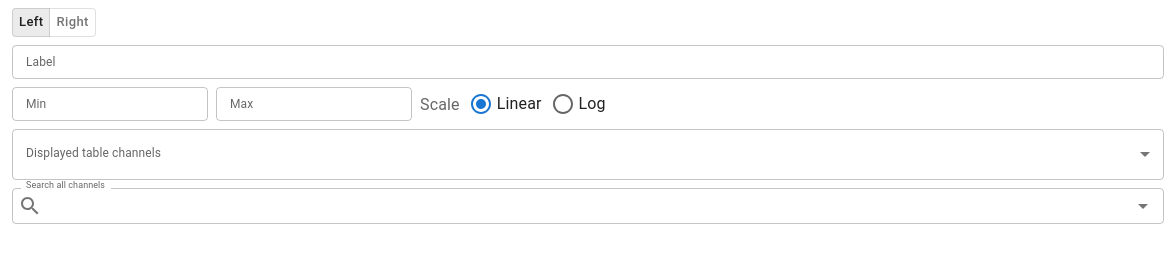
Test case: y-axis tab › min and max fields › displays helper text when min and max fields contain an invalid range
Type "2" into the field labelled "Min". click: (110, 104)
box: [12,87,208,121]
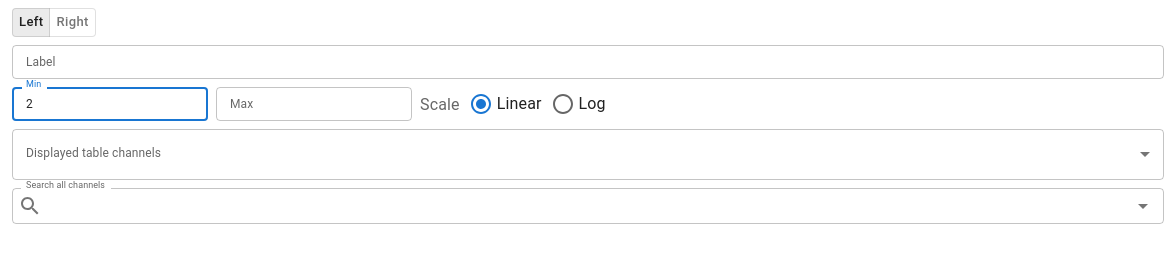
Type "1" into the field labelled "Max". click: (314, 104)
box: [216,87,412,121]
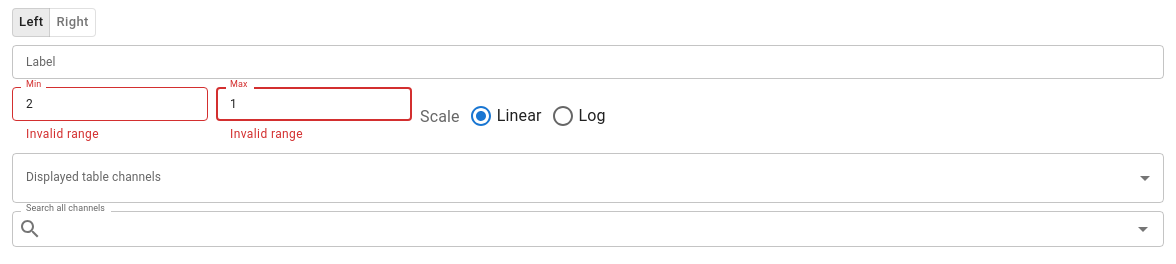
Check: the text "Invalid range" is shown 2 times, box [26,127,99,141]; [230,127,303,141]
